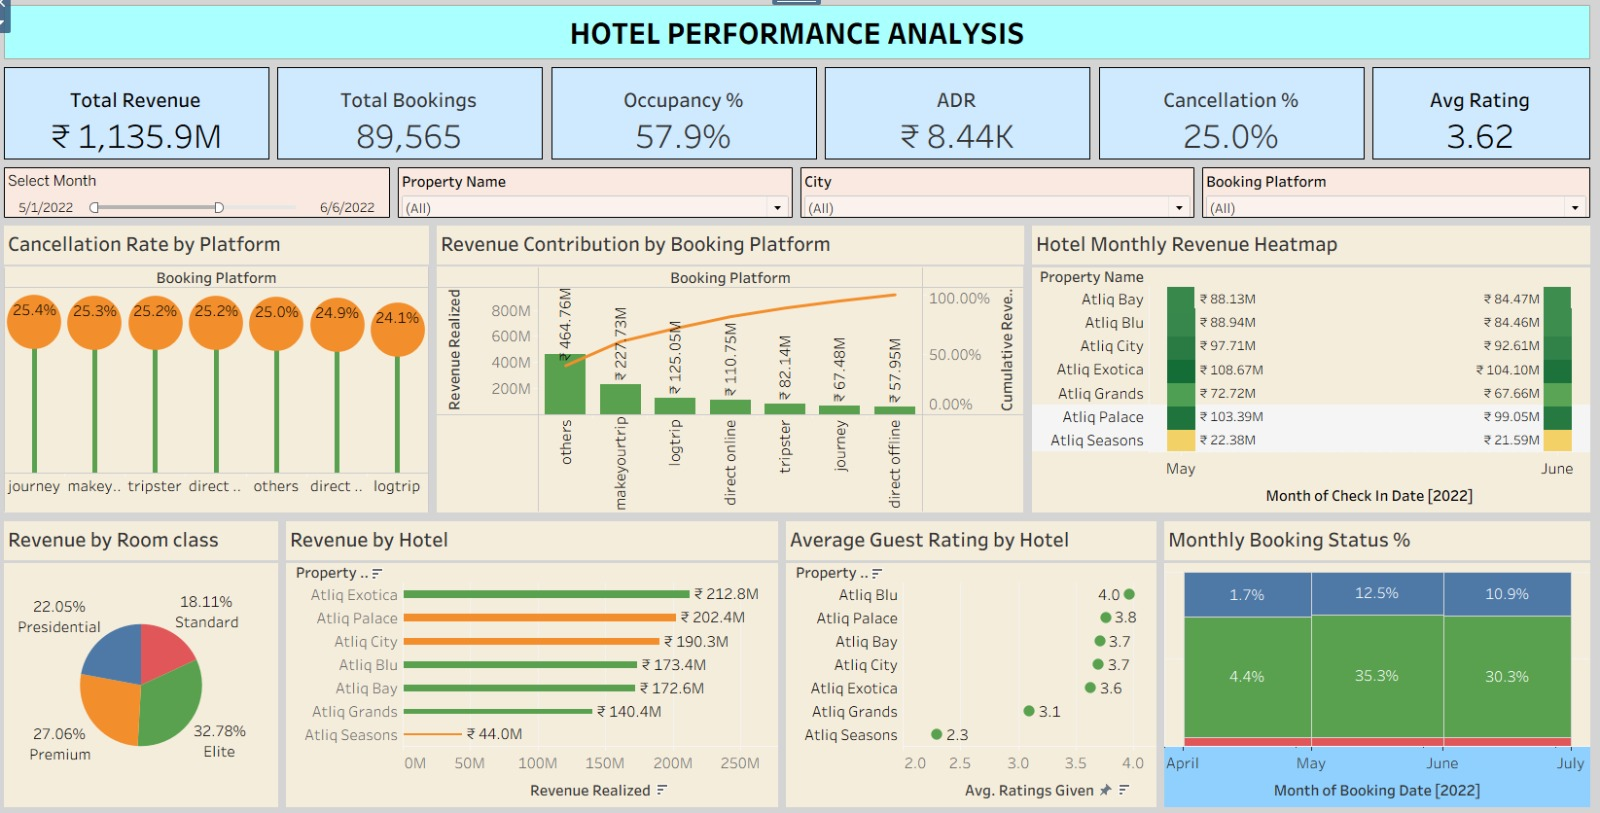

The dashboard page shown, as its layout file describes it:
{"tool":"tableau","page":{"name":"Dashboard 1","canvas":[1000,1000],"units":"permille","ordinal":0},"visuals":[{"type":"title","box":[5.4,10.6,989.1,75]},{"type":"worksheet","title":"Total Revenue","mark":"Automatic","box":[5.4,85.6,169.8,121]},{"type":"worksheet","title":"Total bookings","mark":"Automatic","box":[175.2,85.6,169.8,121]},{"type":"worksheet","title":"Occupancy %","mark":"Automatic","box":[345.1,85.6,169.8,121]},{"type":"worksheet","title":"ADR","mark":"Automatic","box":[514.9,85.6,169.8,121]},{"type":"worksheet","title":"Cancellation %","mark":"Automatic","box":[684.7,85.6,169.8,121]},{"type":"worksheet","title":"Avg Ratings","mark":"Automatic","box":[854.5,85.6,140,121]},{"type":"filter","title":"Revenue by Hotel","param":"[federated.0h1atl61i5q2mp13hdf9212specv].[none:mmm yy:qk]","box":[5.4,206.6,244.7,71]},{"type":"filter","title":"Revenue by Hotel","param":"[federated.0h1atl61i5q2mp13hdf9212specv].[none:property_name:nk]","box":[250.1,206.6,249.6,71]},{"type":"filter","title":"Revenue by Hotel","param":"[federated.0h1atl61i5q2mp13hdf9212specv].[none:city:nk]","box":[499.7,206.6,249.5,71]},{"type":"filter","title":"Revenue by Hotel","param":"[federated.0h1atl61i5q2mp13hdf9212specv].[none:booking_platform:nk]","box":[749.2,206.6,245.4,71]},{"type":"worksheet","title":"Cancellation Rate by Platform","mark":"Bar","rows":["Calculation_1651780151734280","Calculation_1651780151734280"],"cols":["booking_platform"],"box":[5.4,277.6,268.6,356.5]},{"type":"worksheet","title":"Revenue Contribution by Booking Platform","mark":"Automatic","rows":["revenue_realized"],"cols":["booking_platform"],"box":[274,277.6,369.3,356.5]},{"type":"worksheet","title":"Hotel Monthly Revenue Heatmap","mark":"Square","rows":["property_name"],"cols":["check_in_date"],"box":[643.3,277.6,351.2,356.5]},{"type":"worksheet","title":"Revenue by Room class","mark":"Pie","box":[5.4,634.1,175,355.4]},{"type":"worksheet","title":"Revenue by Hotel","mark":"Automatic","rows":["property_name"],"cols":["revenue_realized"],"box":[180.5,634.1,310.2,355.3]},{"type":"worksheet","title":"Average Guest Rating by Hotel","mark":"Circle","rows":["property_name"],"cols":["ratings_given"],"box":[490.7,634.1,234.8,355.4]},{"type":"worksheet","title":"Monthly Booking Status %","mark":"Bar","rows":["booking_id"],"cols":["booking_date"],"box":[725.4,634.1,269.2,355.4]}]}

Visuals, with their boxes on the dashboard's canvas, which has no fixed pixel size, in thousandths of its width and height (x1, y1, x2, y2). These are canvas units, not pixel positions in the 1600x813 screenshot, which may show the page scaled, cropped or inside an application window:
title: [left=5, top=11, right=994, bottom=86]
"Total Revenue" worksheet: [left=5, top=86, right=175, bottom=207]
"Total bookings" worksheet: [left=175, top=86, right=345, bottom=207]
"Occupancy %" worksheet: [left=345, top=86, right=515, bottom=207]
"ADR" worksheet: [left=515, top=86, right=685, bottom=207]
"Cancellation %" worksheet: [left=685, top=86, right=854, bottom=207]
"Avg Ratings" worksheet: [left=854, top=86, right=994, bottom=207]
"Revenue by Hotel" filter: [left=5, top=207, right=250, bottom=278]
"Revenue by Hotel" filter: [left=250, top=207, right=500, bottom=278]
"Revenue by Hotel" filter: [left=500, top=207, right=749, bottom=278]
"Revenue by Hotel" filter: [left=749, top=207, right=995, bottom=278]
"Cancellation Rate by Platform" worksheet (Bar marks): [left=5, top=278, right=274, bottom=634]
"Revenue Contribution by Booking Platform" worksheet: [left=274, top=278, right=643, bottom=634]
"Hotel Monthly Revenue Heatmap" worksheet (Square marks): [left=643, top=278, right=994, bottom=634]
"Revenue by Room class" worksheet (Pie marks): [left=5, top=634, right=180, bottom=990]
"Revenue by Hotel" worksheet: [left=180, top=634, right=491, bottom=989]
"Average Guest Rating by Hotel" worksheet (Circle marks): [left=491, top=634, right=726, bottom=990]
"Monthly Booking Status %" worksheet (Bar marks): [left=725, top=634, right=995, bottom=990]
